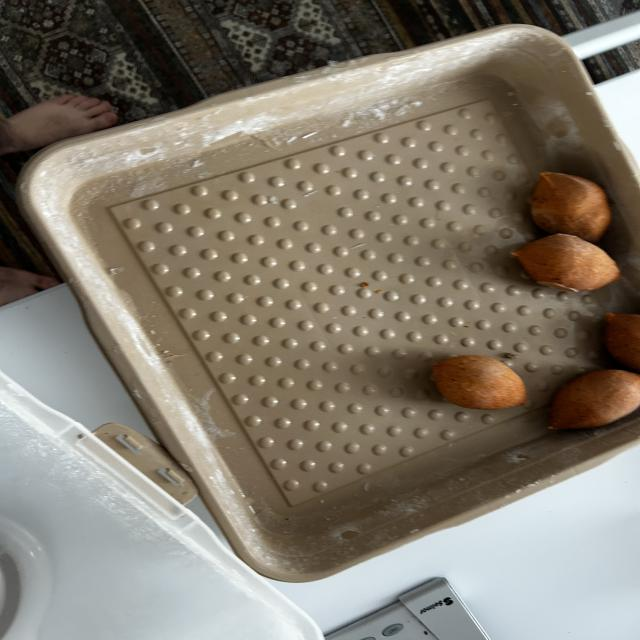kobi: (548, 366, 640, 434), (518, 234, 625, 292), (529, 161, 608, 238), (429, 354, 528, 410), (600, 307, 640, 364)
